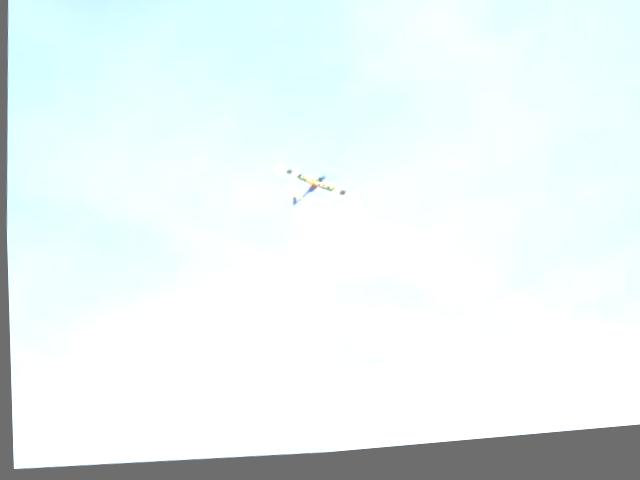uav: (272, 164, 355, 217)
